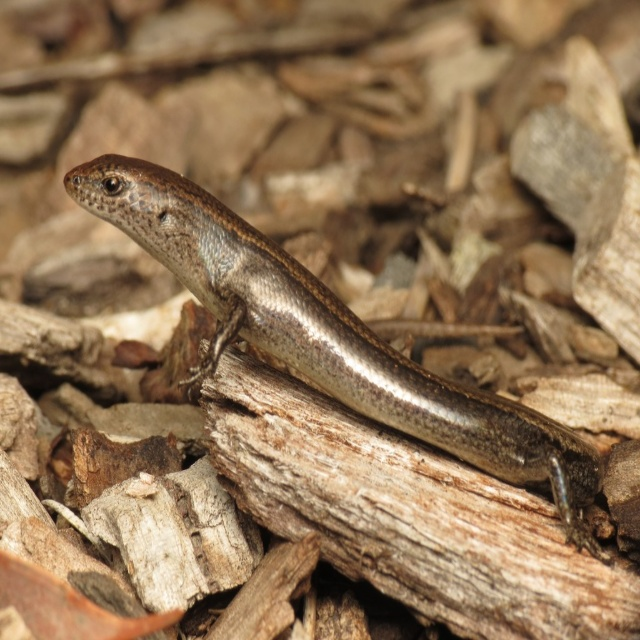Lizard: (63, 153, 611, 566)
